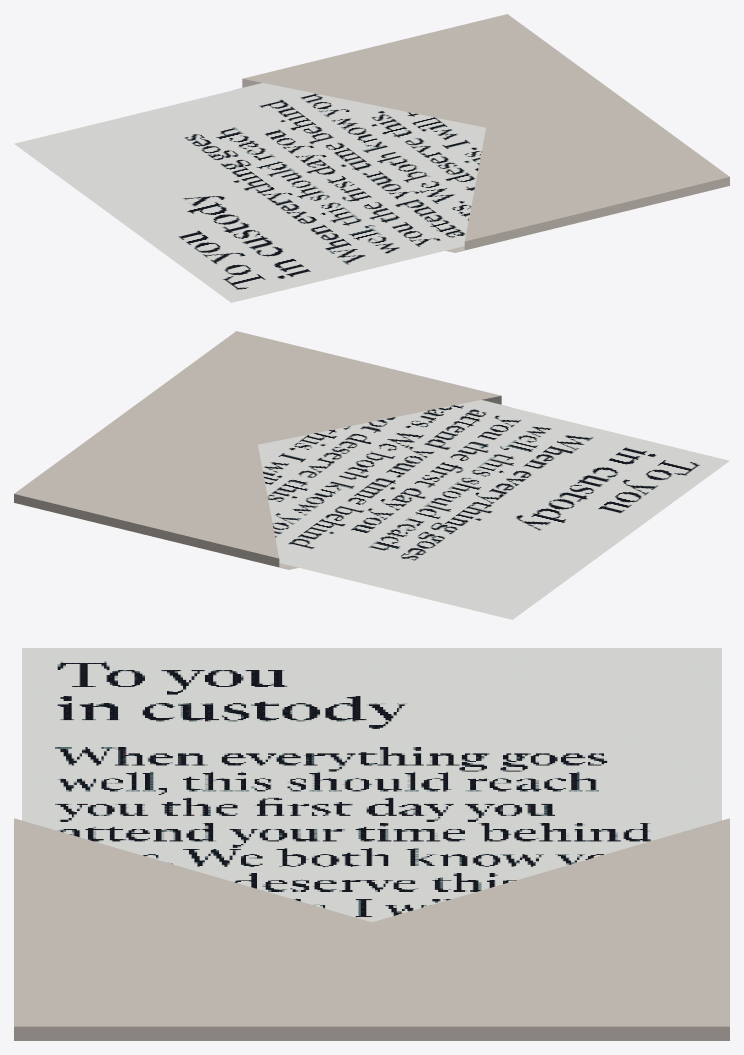
The model's file is letter.glb.
The picture shows the model from 3 angles, top to bottom: view 1: azimuth 30°, elevation 25°; view 2: azimuth 150°, elevation 25°; view 3: azimuth 270°, elevation 25°; orthographic projection. The views are drawn at different scales.
Visible parts, largest first — view 1: Plane.002, Plane.001; view 2: Plane.002, Plane.001; view 3: Plane.002, Plane.001.
Boxes of the visible parts, left/top/right/bottom form: Plane.002: left=14, top=83, right=485, bottom=302; Plane.001: left=233, top=14, right=729, bottom=252; Plane.002: left=258, top=400, right=729, bottom=619; Plane.001: left=14, top=331, right=510, bottom=569; Plane.002: left=22, top=648, right=721, bottom=922; Plane.001: left=14, top=818, right=729, bottom=1040.
Size of the model in its own units: 1.57 by 0.0276 by 1.22.
2 materials, 1 textured.
